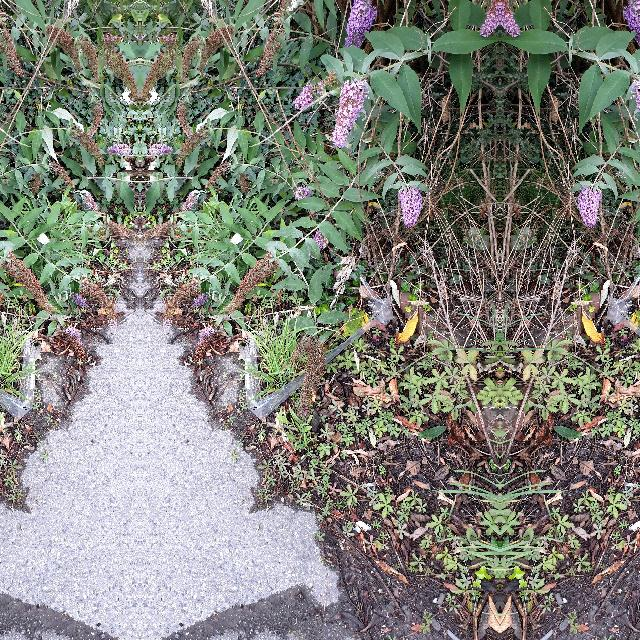Plastic: (240, 291, 396, 424), (0, 290, 39, 423), (604, 290, 640, 423)
